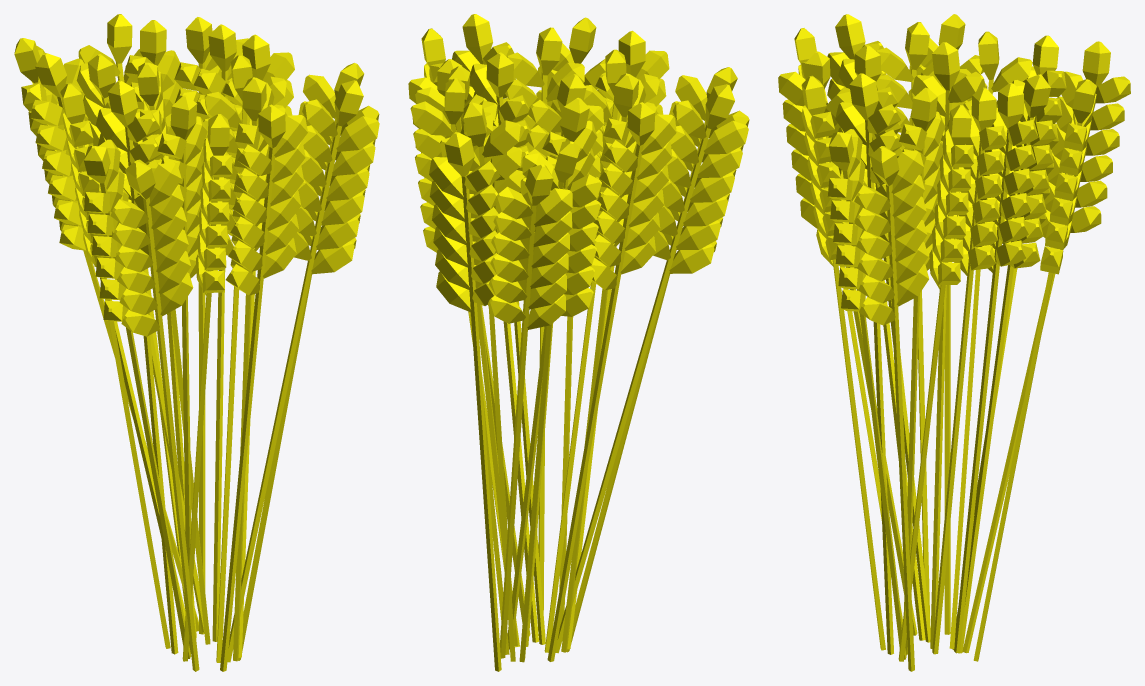
The model's file is wheat.fbx.
3 views of the same model, side by side, from view 1: azimuth 30°, elevation 25°; view 2: azimuth 150°, elevation 25°; view 3: azimuth 270°, elevation 25° (orthographic).
Parts seen in each view (by area): view 1: Cube.078; view 2: Cube.078; view 3: Cube.078.
Part boxes in pixels (x1,y1,x2,y2): Cube.078: (14,14,379,671); Cube.078: (408,14,749,671); Cube.078: (778,14,1130,671).
Bounding box in the file's own units: 26.78 × 50.23 × 27.05.
